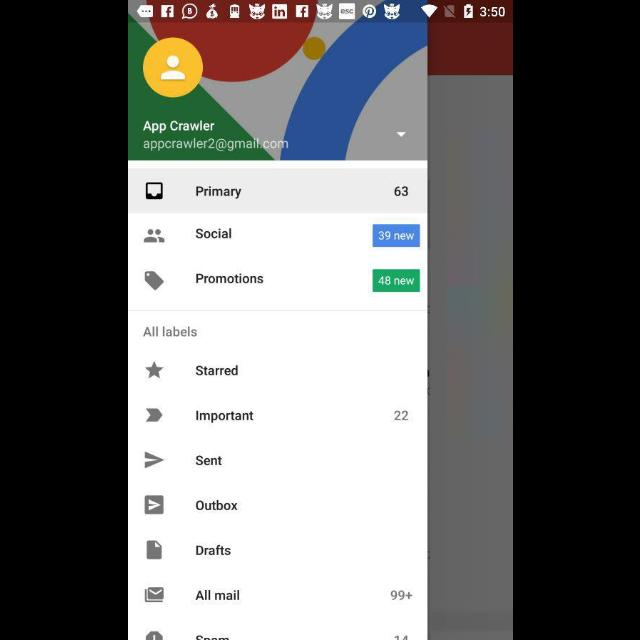icon: (142, 38, 204, 98), (144, 360, 164, 380), (144, 495, 164, 515), (144, 271, 164, 291), (144, 452, 164, 470), (144, 587, 164, 603), (146, 540, 162, 560), (143, 229, 165, 243), (146, 408, 162, 422), (396, 132, 406, 138)
image: (145, 182, 163, 200)
panel: (128, 24, 428, 640)
text: (142, 138, 288, 152), (142, 120, 214, 134), (194, 410, 253, 424), (195, 273, 263, 285), (194, 186, 242, 200), (142, 326, 196, 338), (194, 365, 238, 377), (196, 499, 238, 511), (194, 590, 240, 600), (194, 228, 232, 240), (196, 544, 230, 556), (194, 455, 222, 467), (390, 590, 412, 600), (394, 186, 408, 198), (392, 411, 408, 421)
textbutton: (372, 225, 420, 248), (372, 270, 420, 292)
uppertaskbar: (128, 1, 512, 23)
